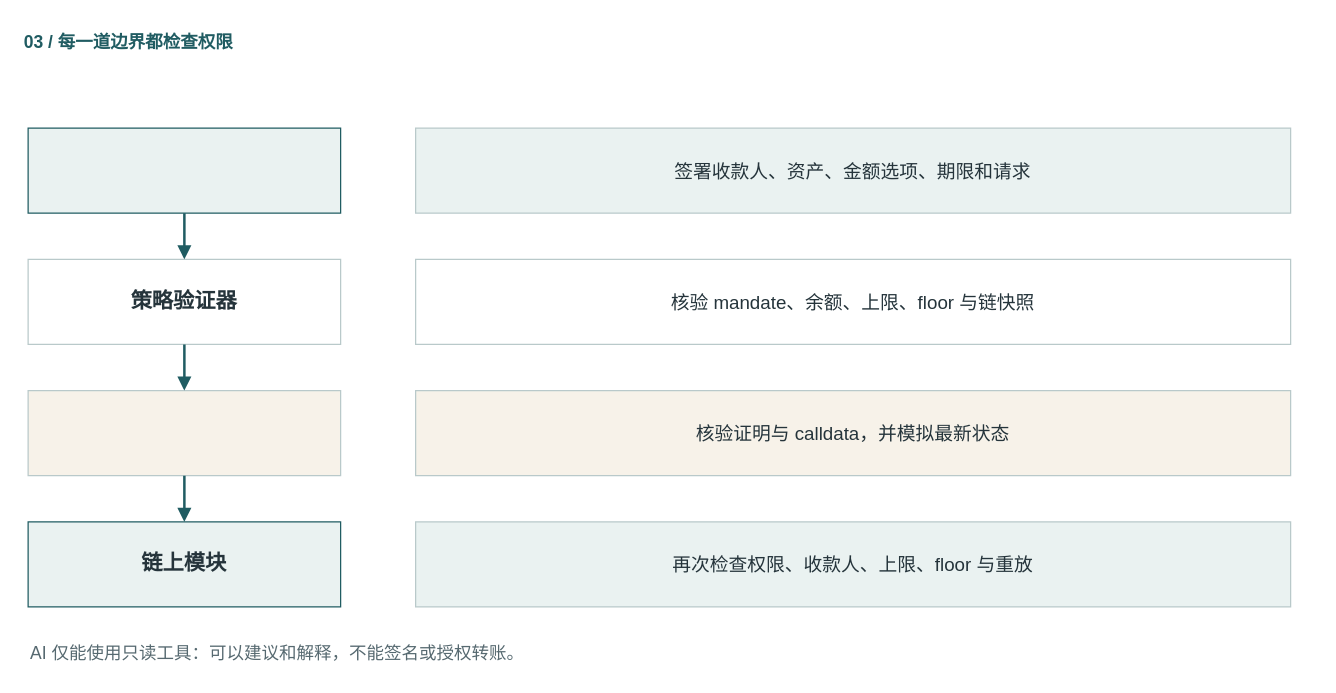
The diagram is 1336 pixels wide and 693 high, and some of its shapes have lost their labels. The centre of each missing label's shape, as x and y in pixels:
人工审批人: point 184,170
独立 signer: point 184,432
